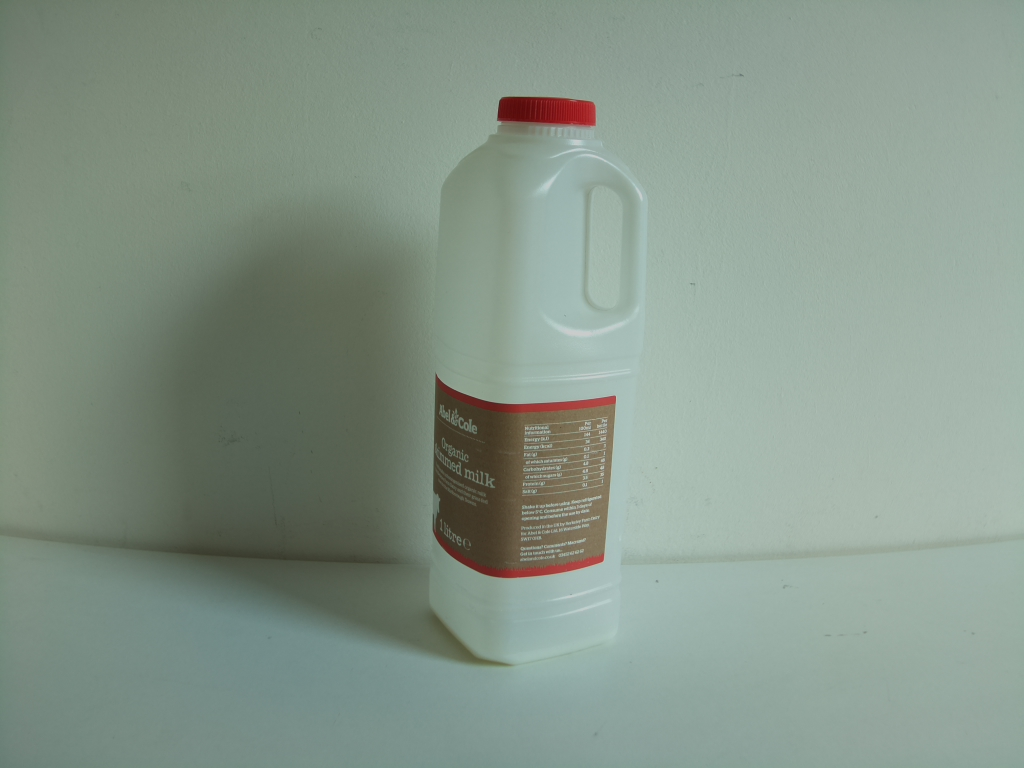milk: (419, 96, 654, 663)
